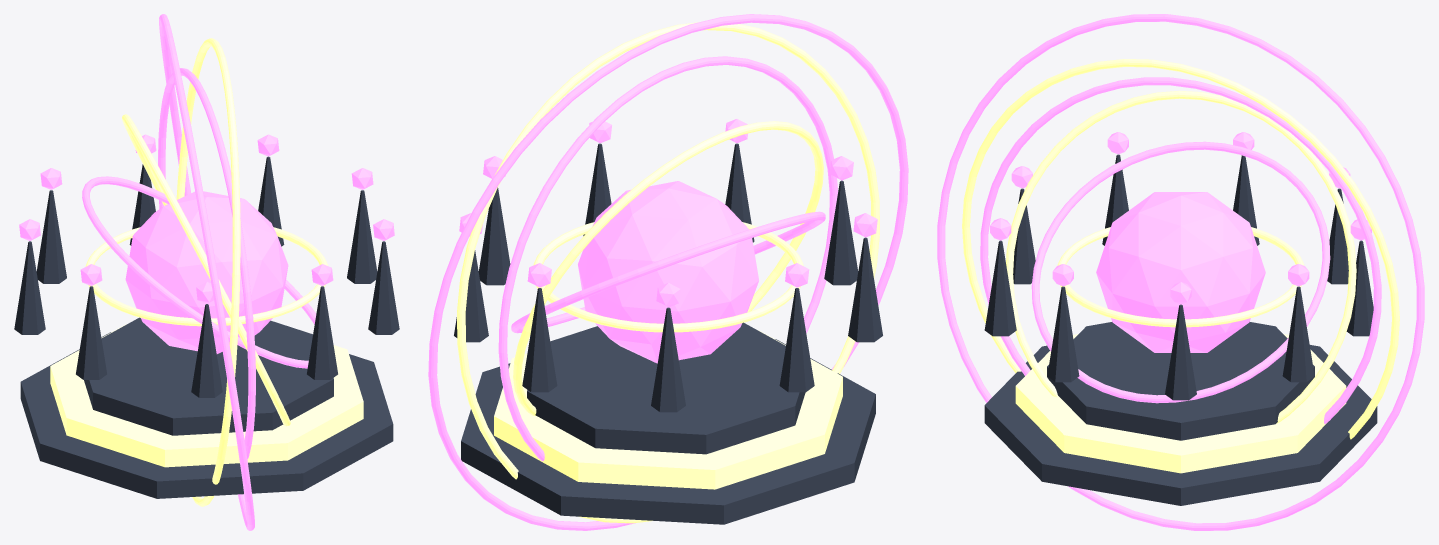
The model's file is gpu-blender-v27.glb.
3 renders of one model, left to right at view 1: azimuth 30°, elevation 25°; view 2: azimuth 150°, elevation 25°; view 3: azimuth 270°, elevation 25°, orthographic. The views are drawn at different scales.
Visible parts, largest first — view 1: Cylinder.002, Cylinder, SovereignCore_gelato-connector, Cylinder.001, Torus.005, Torus.004, Torus.003, Torus.001, Torus.002, Torus, Cone.006, Cone.004 (+7 smaller); view 2: Cylinder.002, SovereignCore_gelato-connector, Cylinder, Cylinder.001, Torus.005, Torus.004, Torus.003, Torus.002, Torus.001, Torus, Cone.003, Cone.005 (+7 smaller); view 3: SovereignCore_gelato-connector, Cylinder.002, Cylinder, Cylinder.001, Torus.005, Torus.004, Torus.003, Torus.002, Torus.001, Torus, Cone, Cone.001 (+7 smaller).
Boxes of the visible parts, x1,y1,x2,y2 form: Cylinder.002: (84, 317, 333, 435); Cylinder: (20, 332, 393, 498); SovereignCore_gelato-connector: (125, 191, 288, 353); Cylinder.001: (50, 324, 363, 467); Torus.005: (159, 14, 254, 530); Torus.004: (176, 38, 240, 506); Torus.003: (158, 68, 255, 459); Torus.001: (82, 176, 316, 368); Torus.002: (122, 114, 290, 426); Torus: (85, 227, 327, 326); Cone.006: (191, 304, 222, 397); Cone.004: (14, 241, 45, 334); Cylinder.002: (527, 322, 805, 454); SovereignCore_gelato-connector: (578, 181, 758, 363); Cylinder: (461, 339, 875, 524); Cylinder.001: (494, 330, 842, 489); Torus.005: (428, 14, 908, 530); Torus.004: (457, 22, 879, 523); Torus.003: (498, 56, 838, 461); Torus.002: (513, 121, 823, 415); Torus.001: (511, 211, 825, 333); Torus: (533, 222, 803, 332); Cone.003: (651, 307, 685, 412); Cone.005: (848, 237, 882, 342); SovereignCore_gelato-connector: (1096, 192, 1265, 352); Cylinder.002: (1047, 322, 1314, 440); Cylinder: (984, 345, 1377, 505); Cylinder.001: (1015, 334, 1346, 473); Torus.005: (937, 14, 1424, 530); Torus.004: (962, 59, 1399, 439); Torus.003: (980, 77, 1381, 423); Torus.002: (1006, 90, 1356, 423); Torus.001: (1031, 141, 1330, 403); Torus: (1057, 227, 1304, 327); Cone: (1165, 304, 1196, 400); Cone.001: (1282, 286, 1314, 382).
Size of the model in its own units: 4.41 by 5.93 by 5.46.
